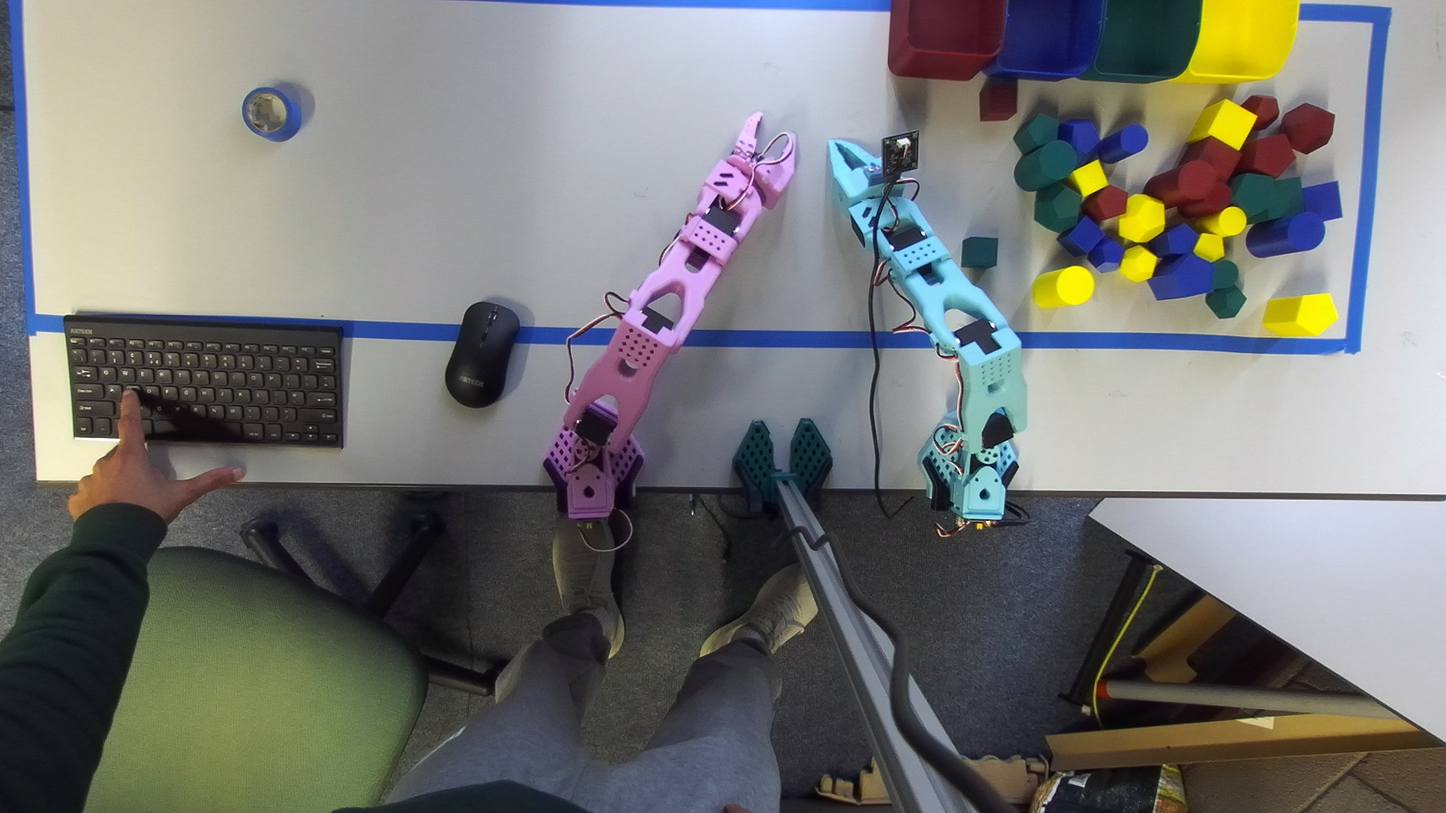bin: (1176, 0, 1298, 83), (1081, 0, 1201, 82), (982, 0, 1103, 80), (888, 0, 1005, 80)
cube: (1187, 99, 1255, 149), (1182, 136, 1240, 181), (1249, 178, 1303, 223), (1057, 215, 1103, 253), (979, 76, 1017, 121), (1302, 181, 1342, 221), (1066, 160, 1108, 196), (961, 236, 998, 268)
cylinder: (1246, 212, 1325, 257), (1144, 160, 1219, 206), (1014, 140, 1076, 190), (1030, 266, 1094, 307), (1096, 124, 1148, 163), (1179, 184, 1231, 218), (1191, 206, 1246, 237), (1213, 258, 1239, 288)
dodecahedron: (1281, 103, 1334, 154), (1034, 183, 1081, 233), (1118, 193, 1164, 243), (1059, 119, 1099, 157), (1118, 246, 1157, 282), (1205, 285, 1246, 318), (1087, 237, 1124, 273), (1241, 95, 1279, 129)
gripper: (726, 112, 796, 209), (827, 139, 881, 206)
hexagonal: (1262, 293, 1336, 336), (1149, 253, 1213, 300), (1234, 134, 1294, 177), (1231, 173, 1274, 221), (1013, 114, 1057, 154), (1084, 185, 1129, 223), (1146, 224, 1197, 257), (1194, 233, 1224, 261)
